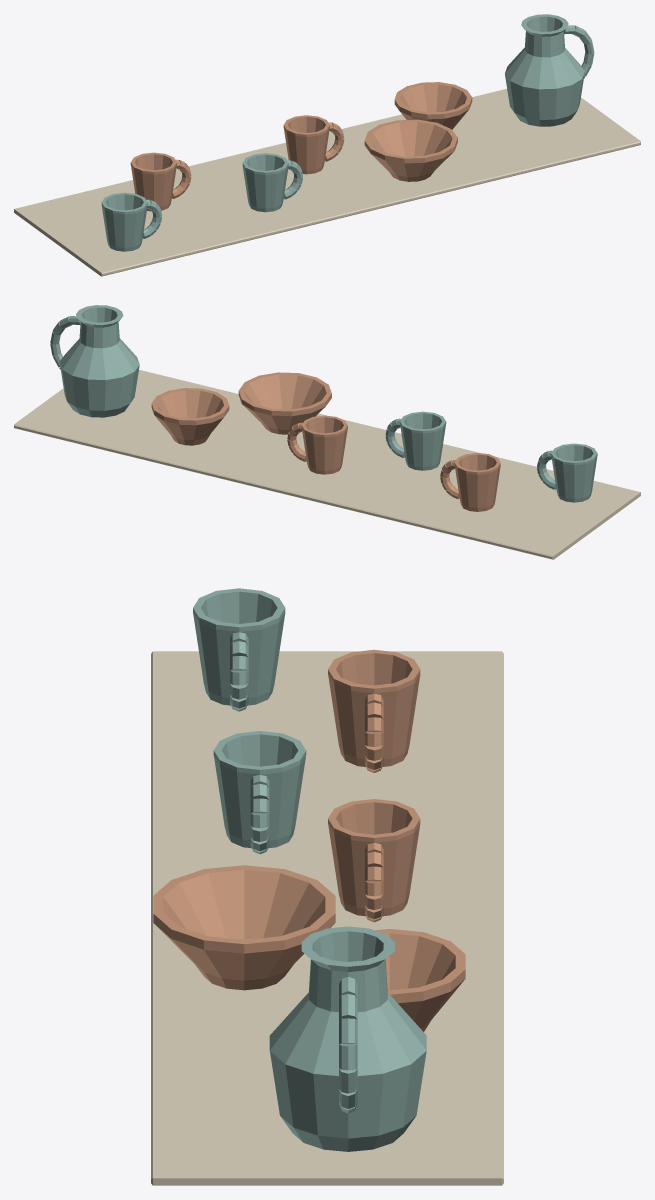
Rendered from Pottery.fbx.
3 renders of one model, top to bottom at view 1: azimuth 30°, elevation 25°; view 2: azimuth 150°, elevation 25°; view 3: azimuth 270°, elevation 25°, orthographic. The views are drawn at different scales.
Visible parts, largest first — view 1: Body__FabricCream.002, Body__Glaze, Body__Clay; view 2: Body__FabricCream.002, Body__Clay, Body__Glaze; view 3: Body__FabricCream.002, Body__Glaze, Body__Clay.
Part boxes in pixels (x1=…): Body__FabricCream.002: x1=14, y1=89, x2=640, y2=276; Body__Glaze: x1=101, y1=14, x2=594, y2=251; Body__Clay: x1=130, y1=82, x2=472, y2=211; Body__FabricCream.002: x1=14, y1=370, x2=640, y2=559; Body__Clay: x1=151, y1=372, x2=500, y2=511; Body__Glaze: x1=50, y1=305, x2=597, y2=502; Body__FabricCream.002: x1=151, y1=651, x2=503, y2=1185; Body__Glaze: x1=193, y1=588, x2=426, y2=1151; Body__Clay: x1=153, y1=649, x2=465, y2=1031.
Size of the model in its own units: 2.41 by 0.41 by 0.68.
